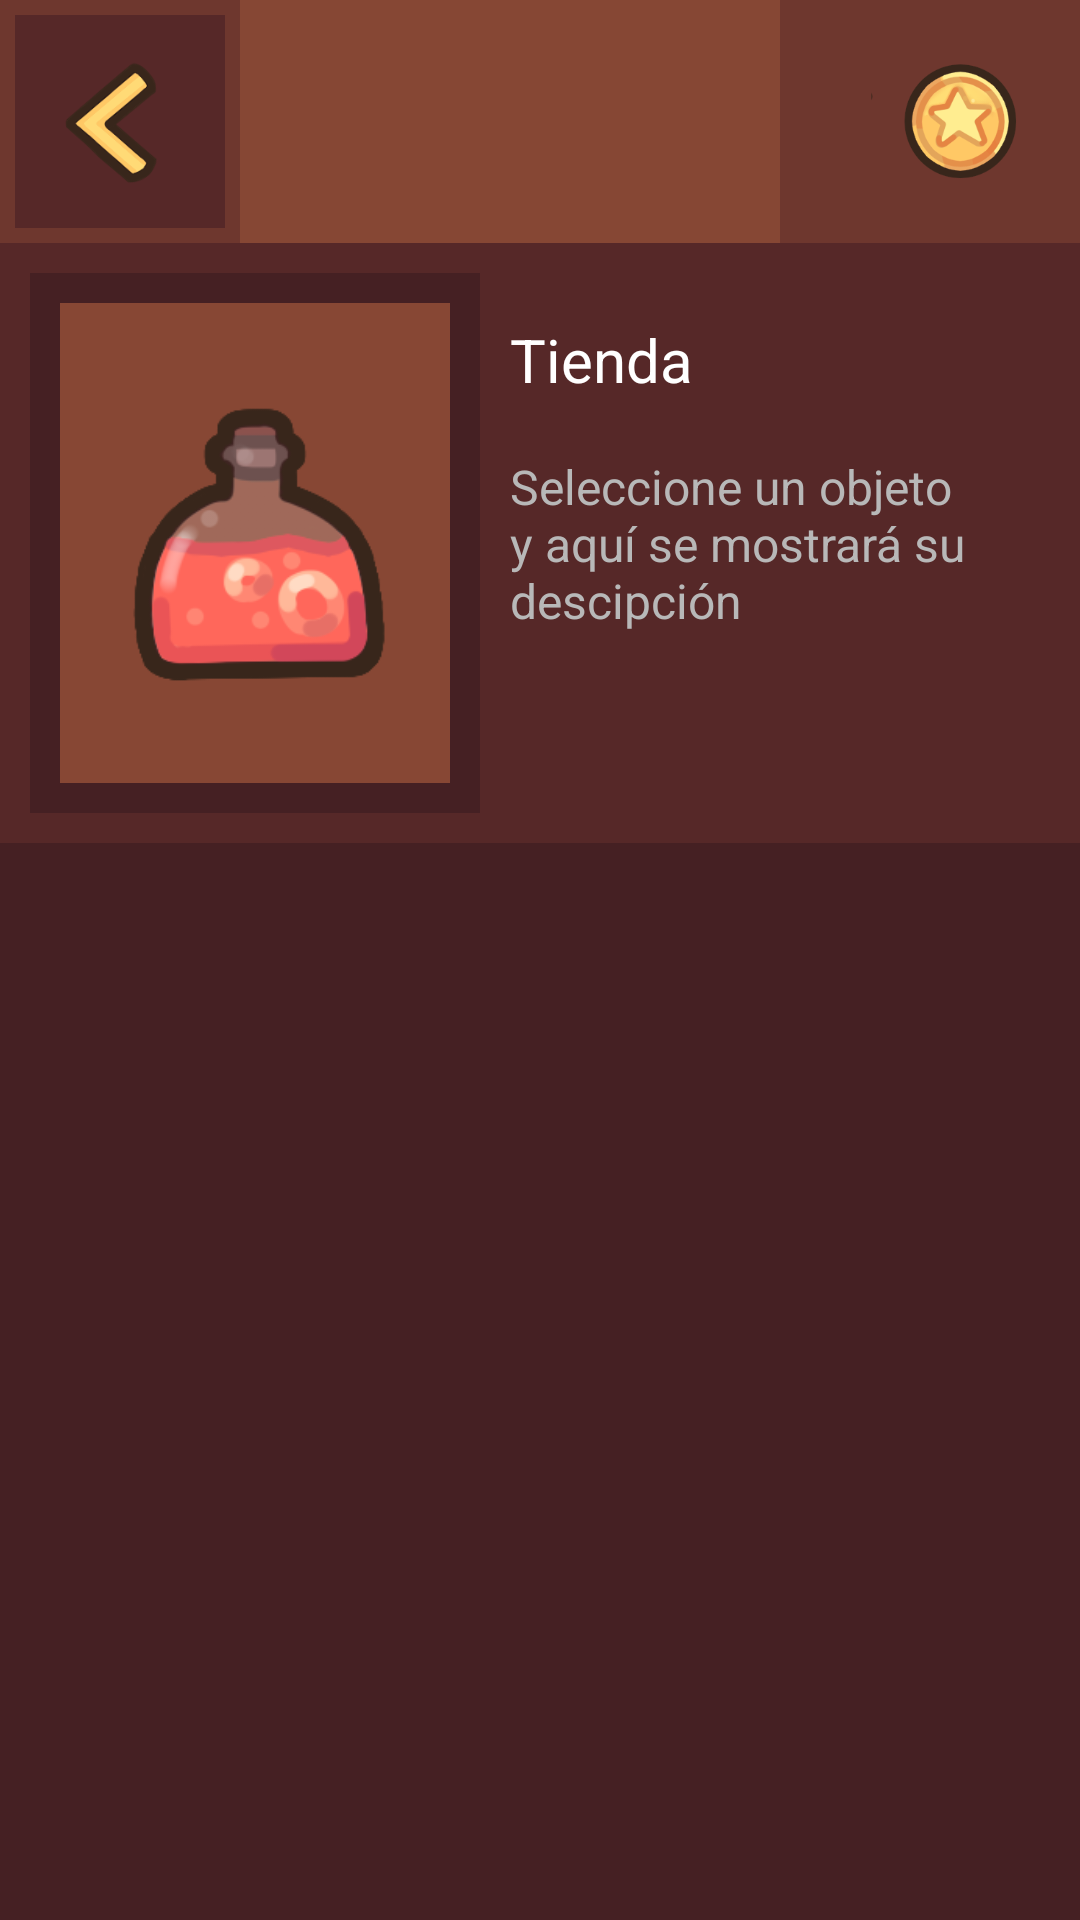

Where icons sit on this 1080px×1920px app screen, as (x1, y1, x2, y2):
back: (65, 62, 158, 184)
Monedas: (871, 64, 1016, 178)
